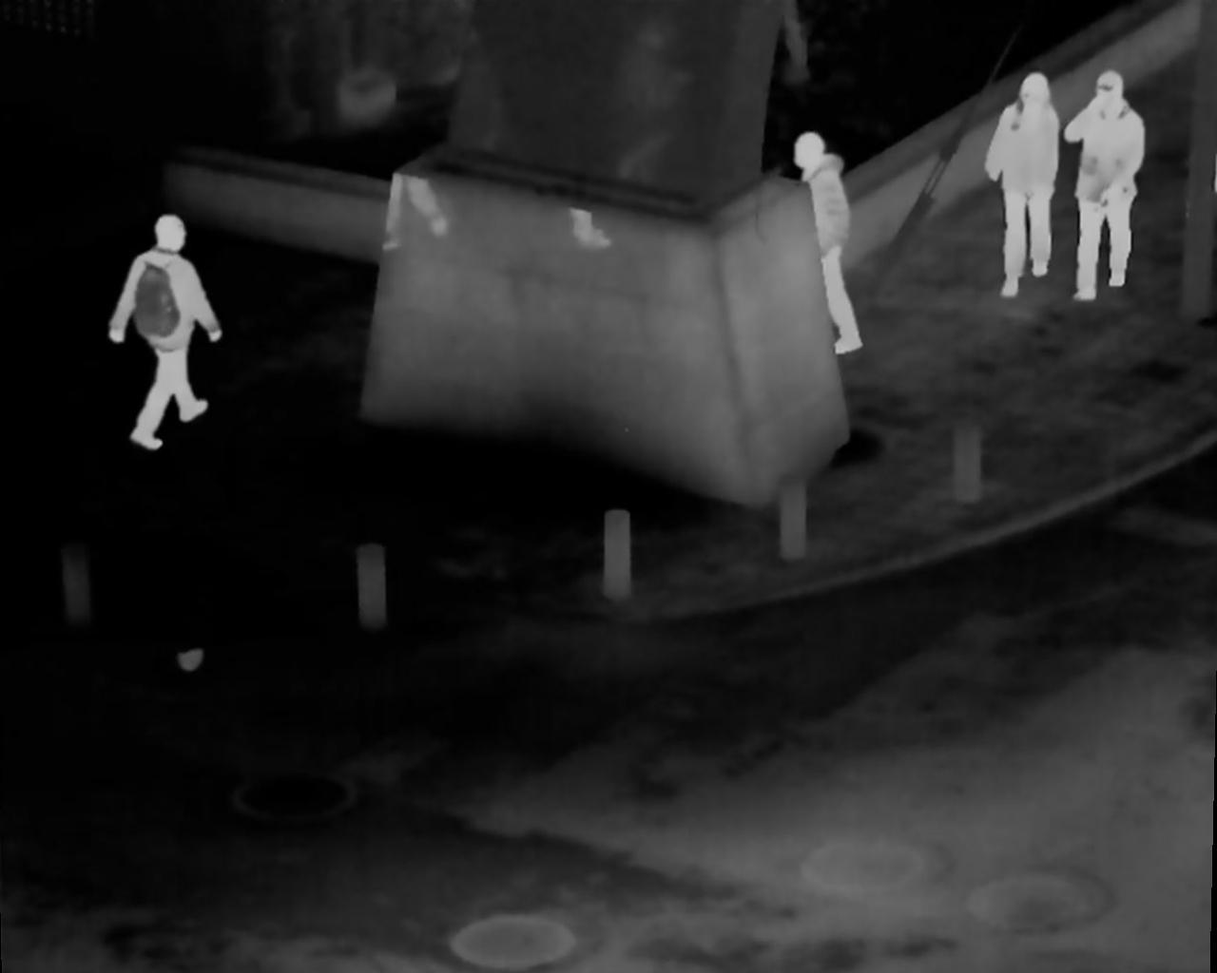person: (120, 214, 211, 446), (779, 128, 865, 353), (1067, 69, 1142, 305), (983, 75, 1062, 298)
